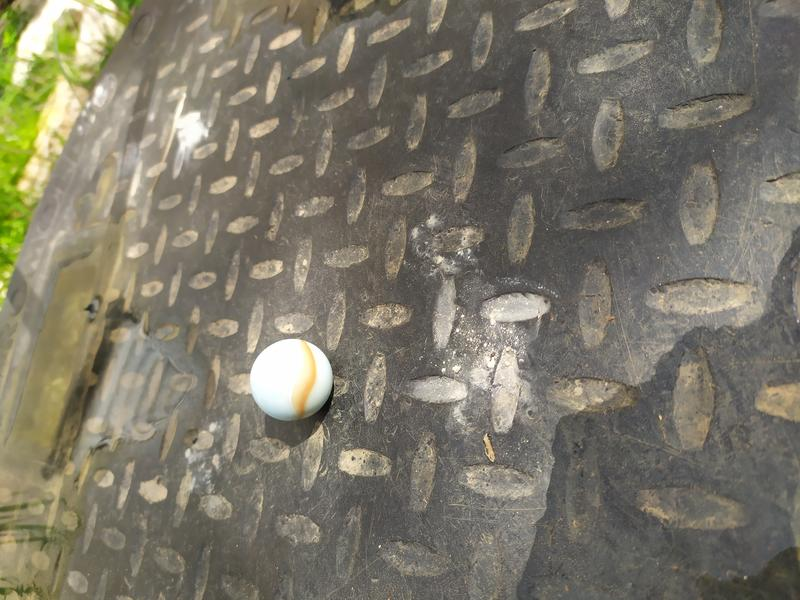Warning: (247, 335, 336, 424)
